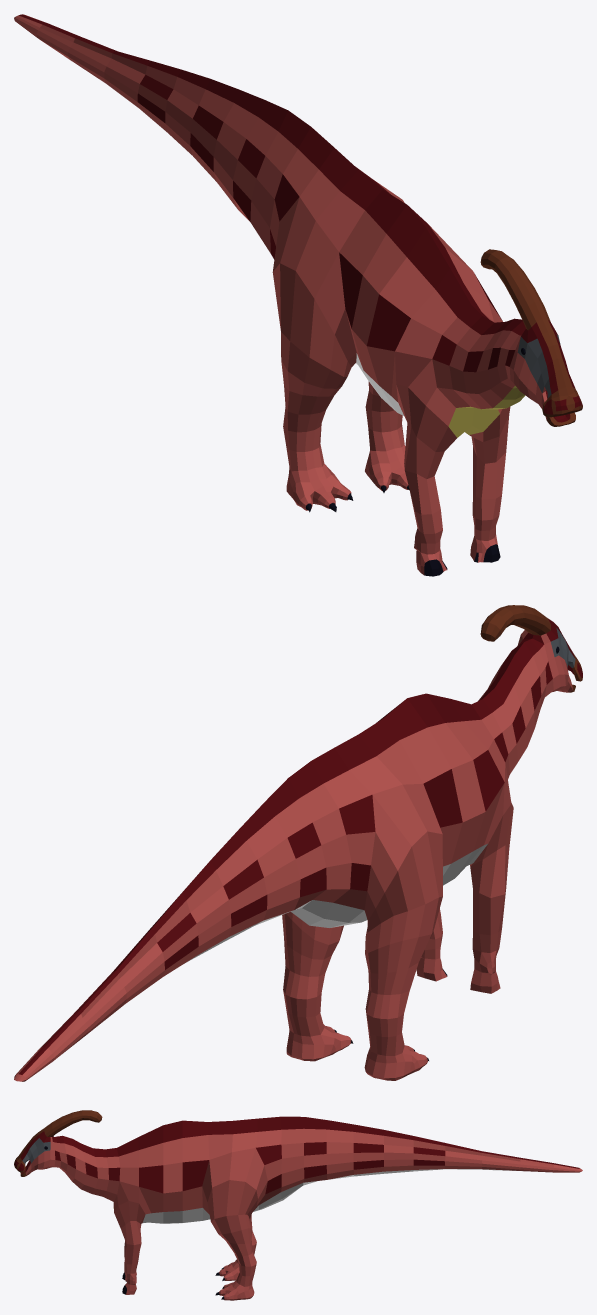
File: LowPolyPara_01.fbx
3 views of the same model, one above another, from view 1: azimuth 30°, elevation 25°; view 2: azimuth 150°, elevation 25°; view 3: azimuth 270°, elevation 25° (orthographic). The views are drawn at different scales.
Visible parts, largest first — view 1: LowPolyPara; view 2: LowPolyPara; view 3: LowPolyPara.
Boxes of the visible parts, x1,y1,x2,y2 form: LowPolyPara: [14, 14, 582, 576]; LowPolyPara: [14, 605, 582, 1081]; LowPolyPara: [14, 1110, 582, 1300].
Size of the model in its own units: 58.39 by 128 by 377.
